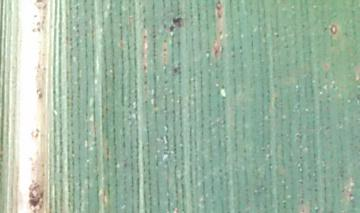tarspot: (173, 17, 184, 27), (172, 67, 181, 75), (169, 26, 174, 32)
